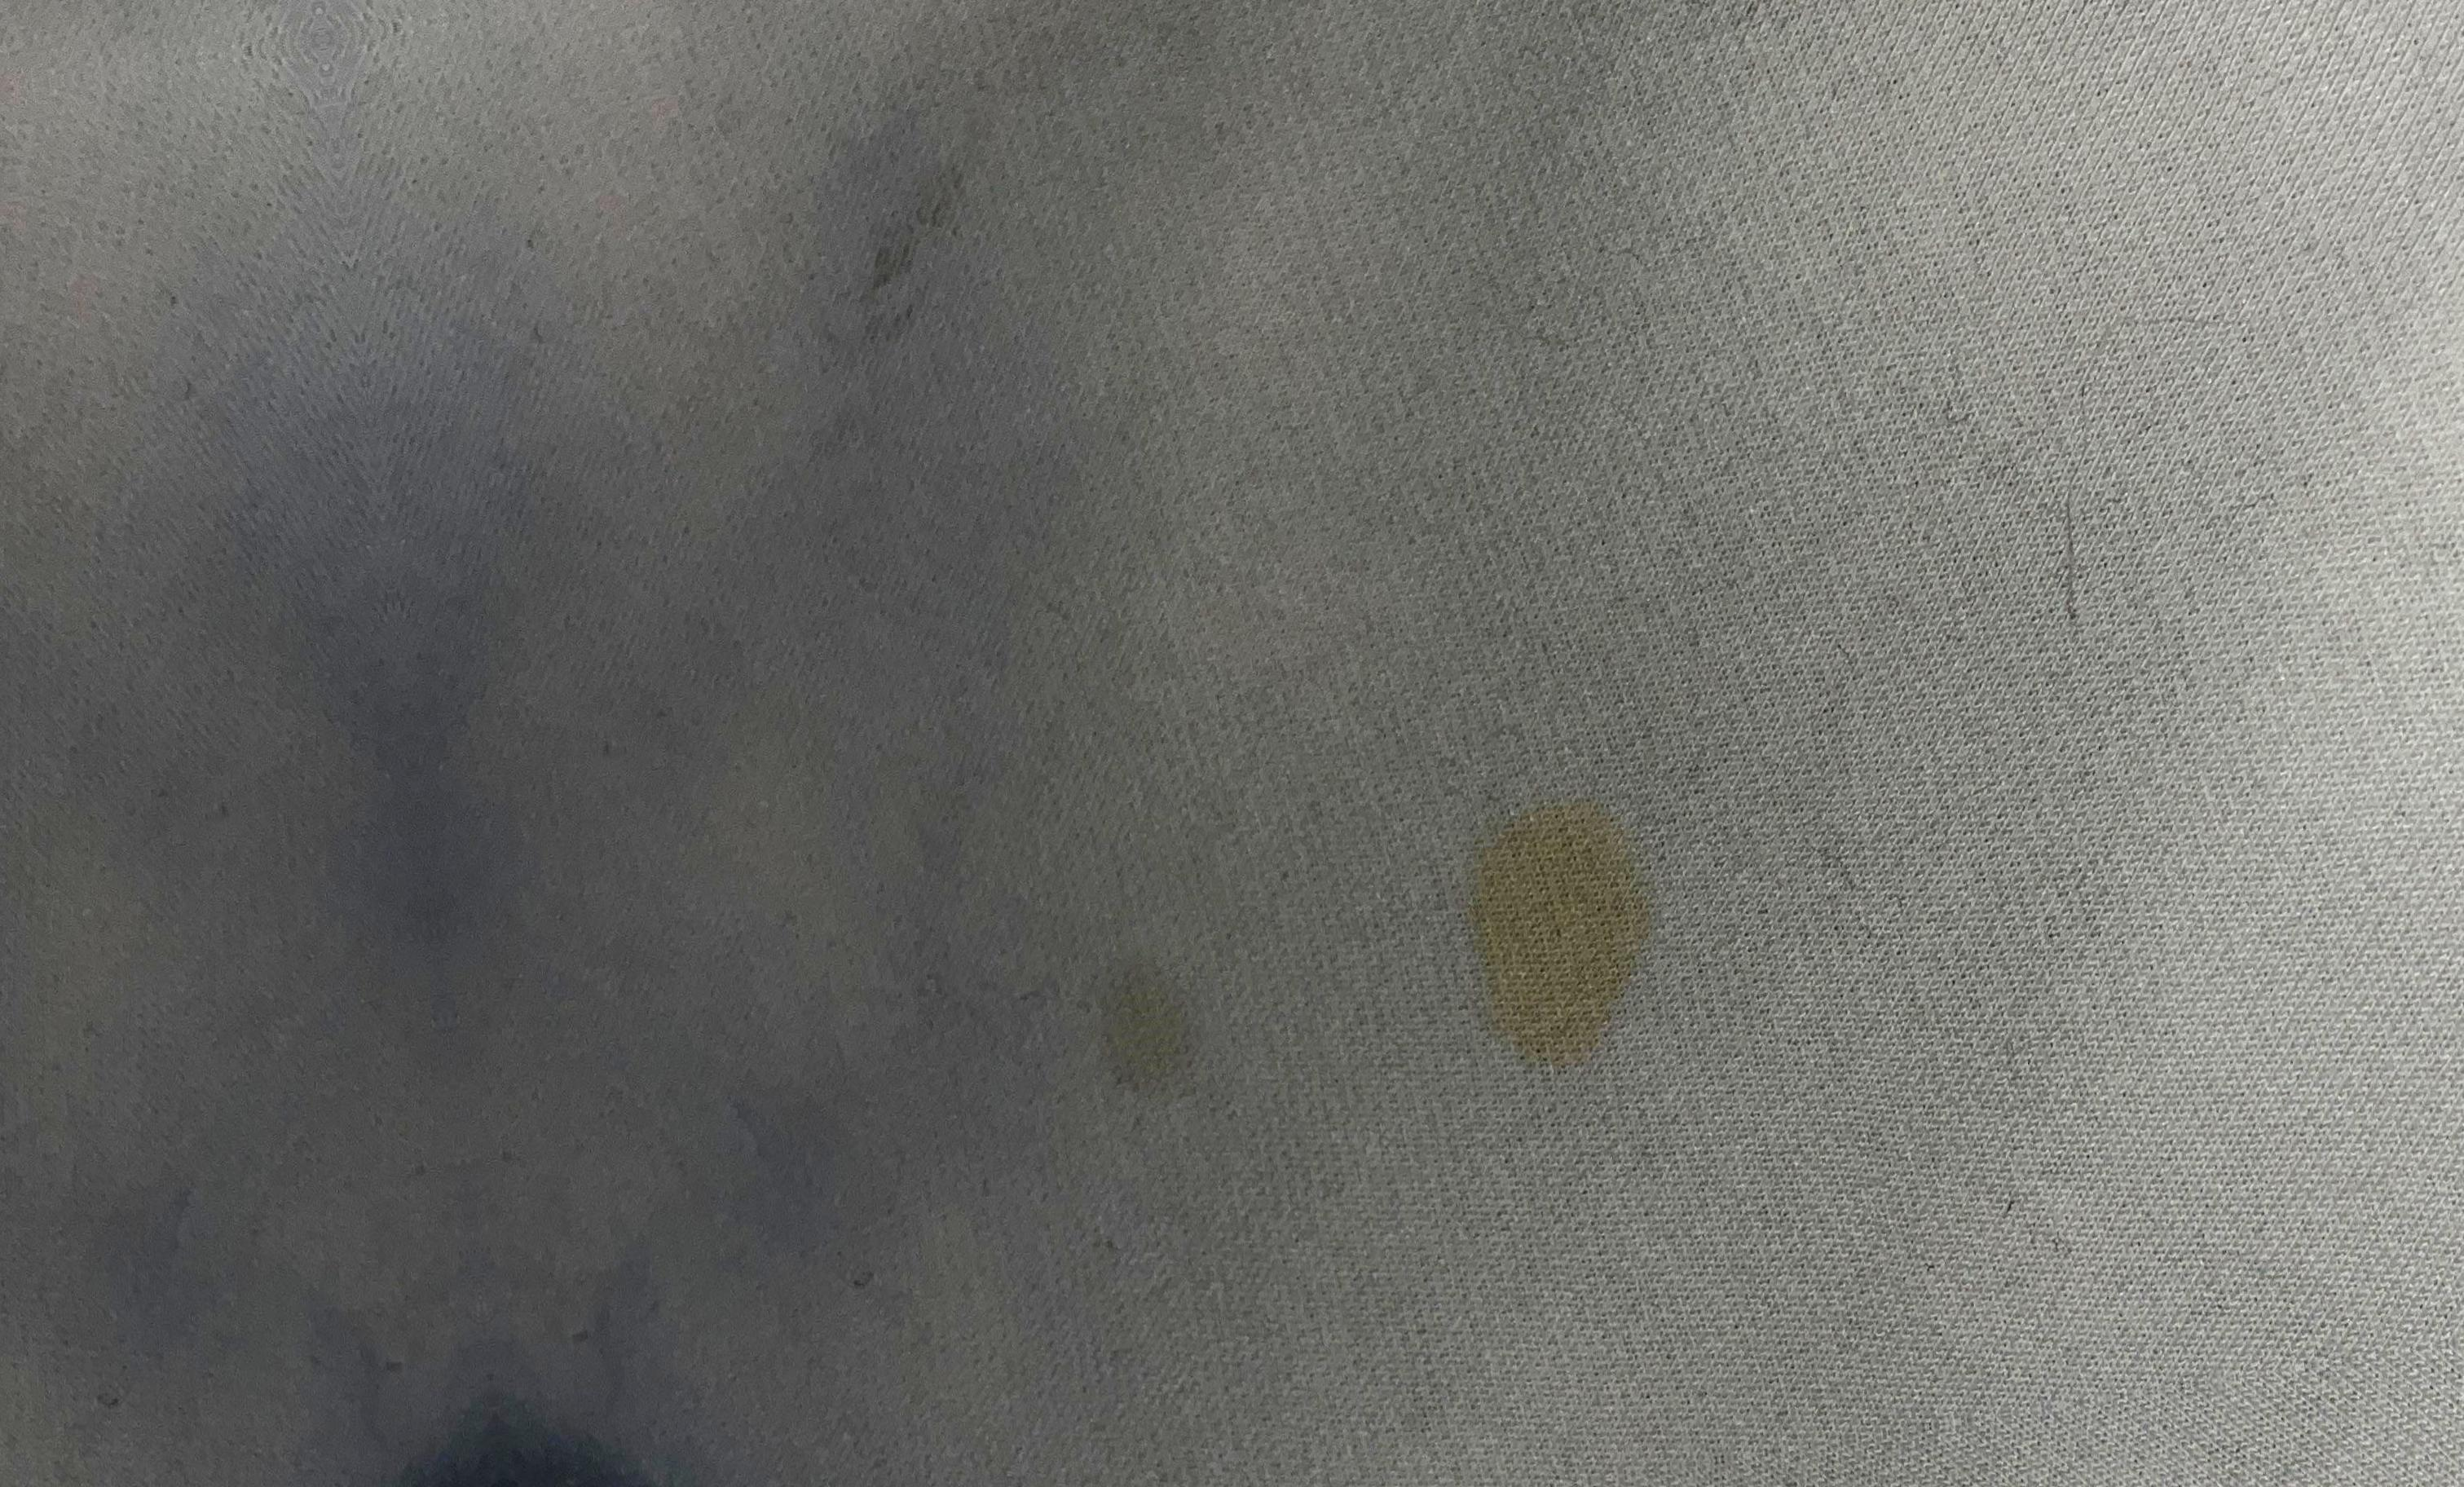stain: (1447, 794, 1684, 1068), (1063, 949, 1221, 1124)
